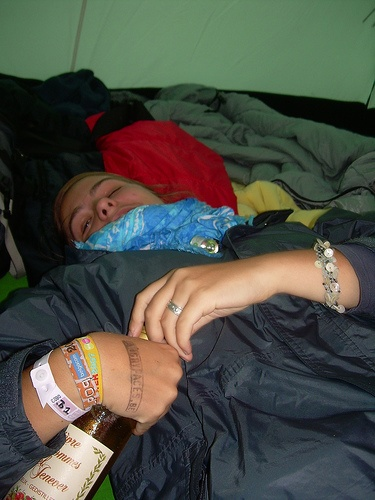head: (55, 172, 168, 248)
person: (1, 170, 375, 486)
